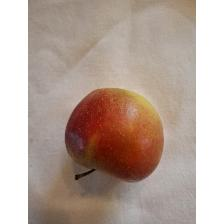Apfel: (62, 86, 166, 184)
